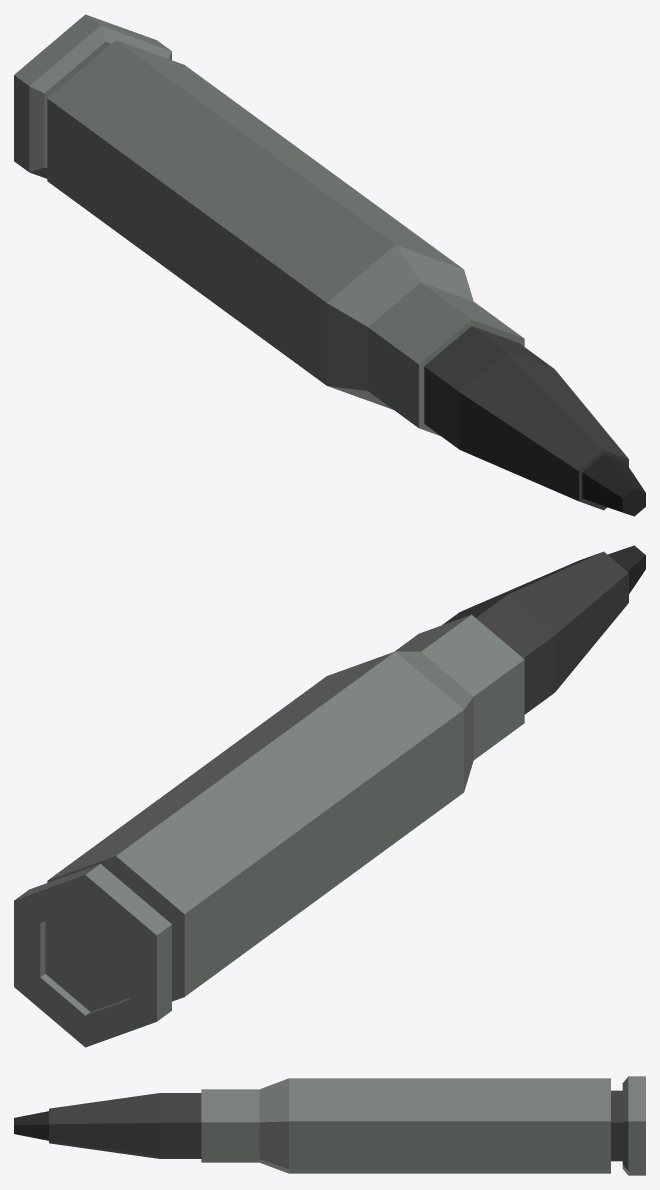
Rendered from Bullet_Recon_C.fbx.
3 views of the same model, one above another, from view 1: azimuth 30°, elevation 25°; view 2: azimuth 150°, elevation 25°; view 3: azimuth 270°, elevation 25° (orthographic). The views are drawn at different scales.
Visible parts, largest first — view 1: Bullet_Recon_C, Bullet_Recon_C_Part; view 2: Bullet_Recon_C, Bullet_Recon_C_Part; view 3: Bullet_Recon_C, Bullet_Recon_C_Part.
Boxes of the visible parts, x1,y1,x2,y2 form: Bullet_Recon_C: [14, 14, 524, 435]; Bullet_Recon_C_Part: [424, 326, 645, 516]; Bullet_Recon_C: [14, 614, 524, 1047]; Bullet_Recon_C_Part: [442, 545, 645, 714]; Bullet_Recon_C: [201, 1076, 645, 1175]; Bullet_Recon_C_Part: [14, 1093, 201, 1158].
Size of the model in its own units: 0.0183 by 0.0211 by 0.1215.
